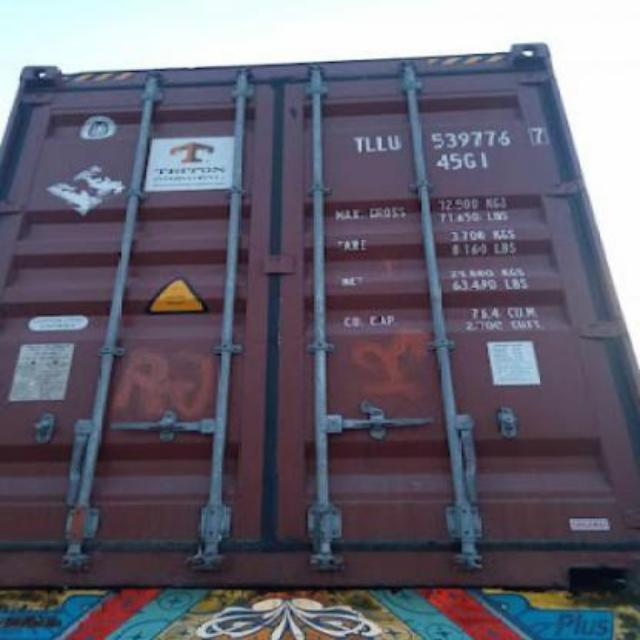3: (444, 125, 458, 149)
5: (428, 125, 444, 151)
6: (496, 122, 512, 154)
7: (526, 122, 548, 144), (482, 119, 496, 151), (468, 124, 480, 146)
9: (456, 126, 468, 150)
L: (362, 128, 376, 156), (374, 128, 388, 156)
T: (351, 132, 364, 158)
U: (388, 128, 400, 156)
